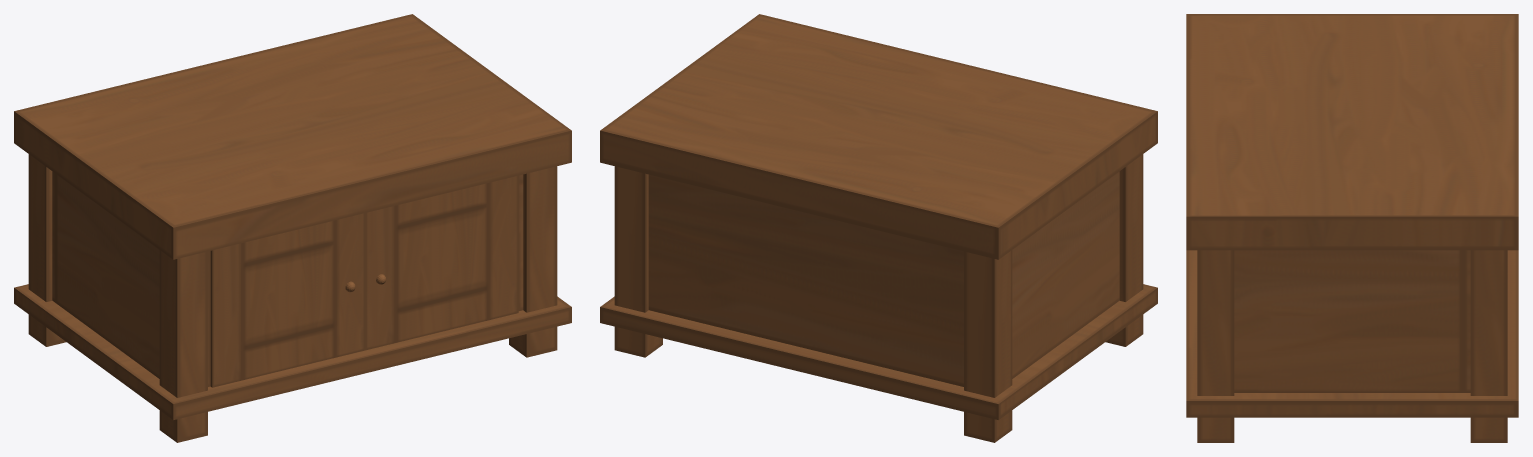
The model's file is Meja_TV.fbx.
3 renders of one model, left to right at view 1: azimuth 30°, elevation 25°; view 2: azimuth 150°, elevation 25°; view 3: azimuth 270°, elevation 25°, orthographic. The views are drawn at different scales.
Visible parts, largest first — view 1: Meja_TV, Meja_TV.003, Meja_TV.001; view 2: Meja_TV; view 3: Meja_TV.
Boxes of the visible parts, x1,y1,x2,y2 form: Meja_TV: (14,14,571,442); Meja_TV.003: (210,213,365,387); Meja_TV.001: (365,175,518,350); Meja_TV: (600,14,1157,442); Meja_TV: (1186,14,1518,442).
Bounding box in the file's own units: 130 × 69 × 90.
Materials: 2 (2 with a texture image).
